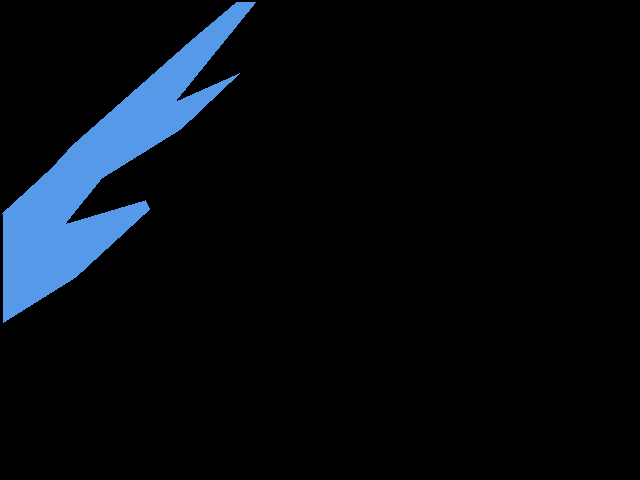Airplane: (2, 2, 256, 323)
